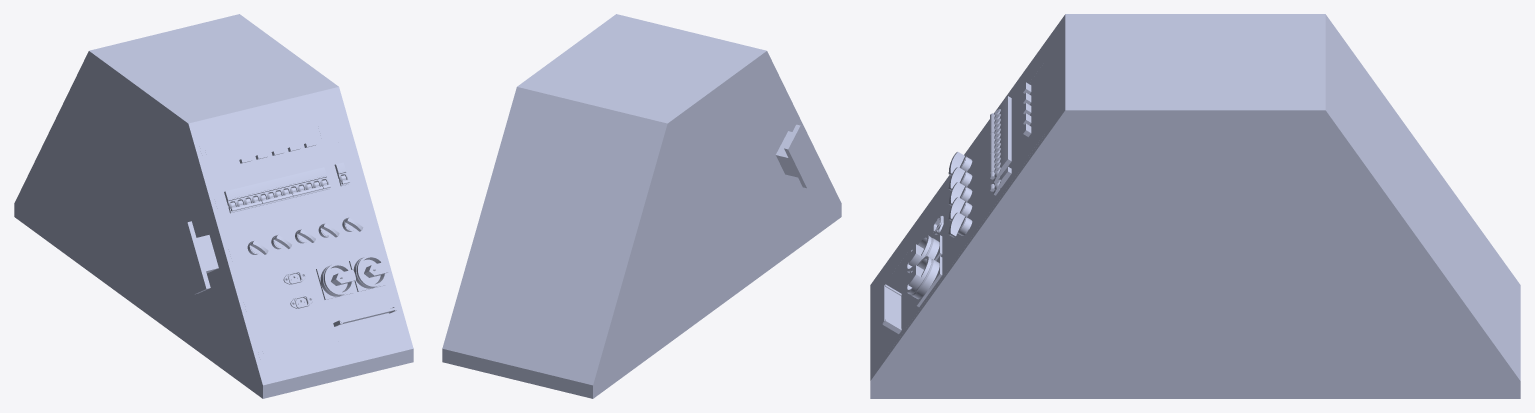
The model's file is _panel_raw.glb.
3 renders of one model, left to right at view 1: azimuth 30°, elevation 25°; view 2: azimuth 150°, elevation 25°; view 3: azimuth 270°, elevation 25°, orthographic. The views are drawn at different scales.
Visible parts, largest first — view 1: NAUO1, NAUO17 (×3), NAUO8, NAUO9; view 2: NAUO1; view 3: NAUO1, NAUO9, NAUO8, NAUO16.
Part boxes in pixels (x1=…): NAUO1: x1=14, y1=14, x2=413, y2=398; NAUO17 (×3): x1=224, y1=169, x2=321, y2=213; NAUO8: x1=311, y1=262, x2=355, y2=304; NAUO9: x1=349, y1=254, x2=388, y2=296; NAUO1: x1=442, y1=14, x2=841, y2=398; NAUO1: x1=870, y1=14, x2=1520, y2=398; NAUO9: x1=905, y1=256, x2=942, y2=306; NAUO8: x1=905, y1=235, x2=942, y2=272; NAUO16: x1=882, y1=285, x2=900, y2=327.
Bounding box in the file's own units: 0.39 × 0.49 × 1.
